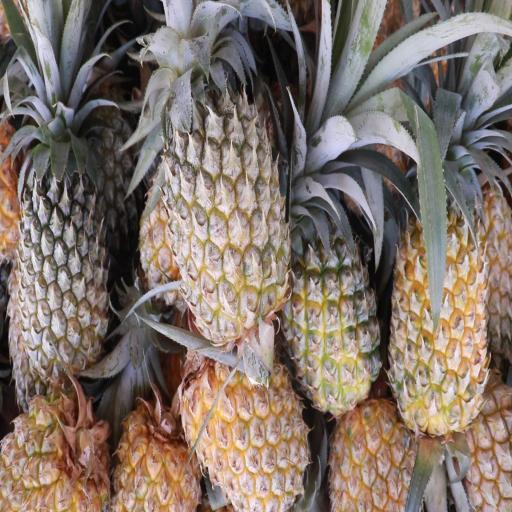------------------------------: (157, 0, 298, 348), (284, 167, 390, 420)
Pineapple - v8 v1: (387, 144, 494, 444), (179, 333, 318, 512), (1, 380, 117, 512), (111, 388, 207, 512)
